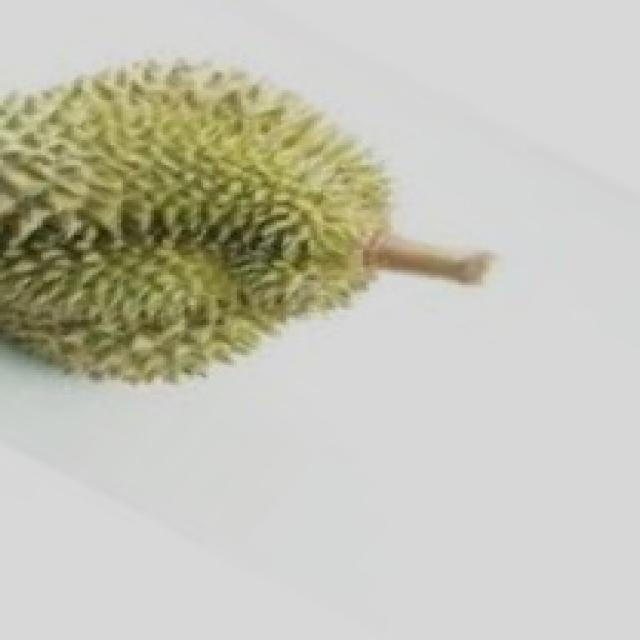fruit: (0, 15, 425, 445)
